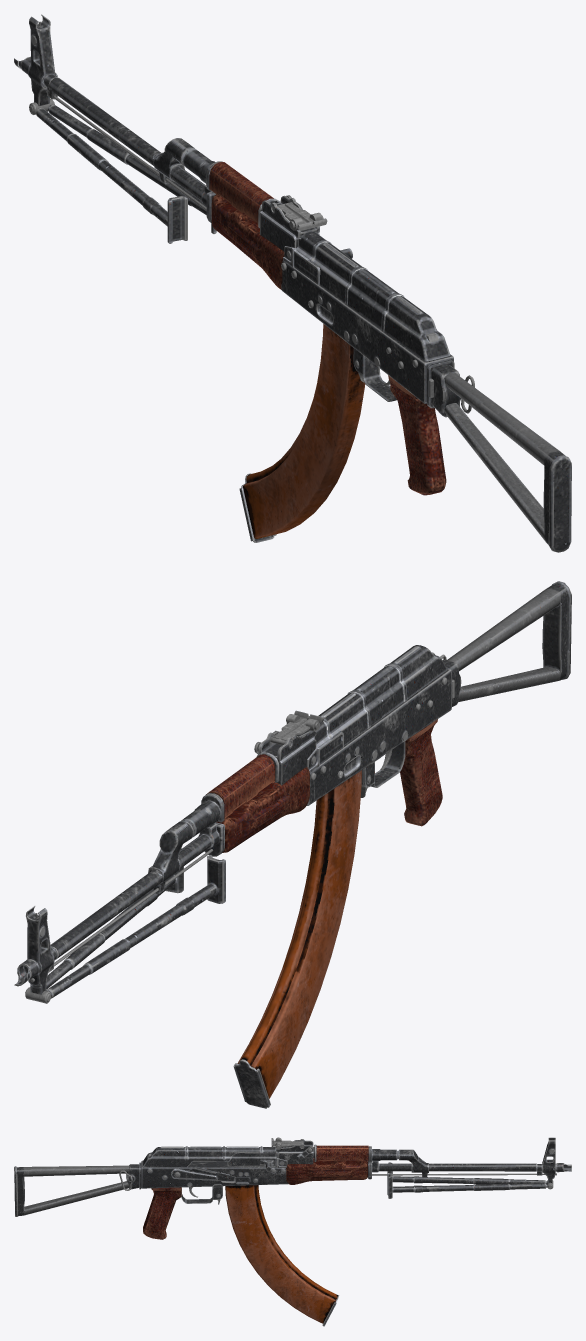
Rendered from rpk.glb.
The picture shows the model from 3 angles, top to bottom: view 1: azimuth 30°, elevation 25°; view 2: azimuth 150°, elevation 25°; view 3: azimuth 270°, elevation 25°; orthographic projection. The views are drawn at different scales.
Visible parts, largest first — view 1: Cube.033, Cube.008, Cube.039, Cube, Cube.012, Cylinder.009, Cube.001, Cube.003, Cylinder.001, Cube.002, Cylinder.010, Cube.005 (+3 smaller); view 2: Cube.033, Cube.039, Cube.008, Cube, Cube.012, Cylinder.009, Cube.003, Cube.001, Cylinder.010, Cube.002, Cube.005, Cube.034 (+3 smaller); view 3: Cube.033, Cube, Cube.039, Cube.012, Cube.008, Cylinder.009, Cube.003, Cube.001, Cube.002, Cylinder.010, Cube.011, Cube.005 (+4 smaller).
Part boxes in pixels (<box>): Cube.033: <box>243,324,365,538</box>; Cube.008: <box>296,231,450,361</box>; Cube.039: <box>444,372,565,544</box>; Cube: <box>281,260,453,403</box>; Cube.012: <box>36,105,216,243</box>; Cylinder.009: <box>28,14,212,206</box>; Cube.001: <box>388,375,446,495</box>; Cube.003: <box>211,194,284,289</box>; Cylinder.001: <box>548,455,571,552</box>; Cube.002: <box>209,162,273,224</box>; Cylinder.010: <box>153,138,215,184</box>; Cube.005: <box>260,195,319,251</box>; Cube.033: <box>237,770,361,1098</box>; Cube.039: <box>447,584,567,701</box>; Cube.008: <box>314,645,446,747</box>; Cube: <box>306,669,451,805</box>; Cube.012: <box>46,848,225,998</box>; Cylinder.009: <box>23,823,219,994</box>; Cube.003: <box>216,767,309,852</box>; Cube.001: <box>400,719,442,826</box>; Cylinder.010: <box>148,800,221,893</box>; Cube.002: <box>206,754,275,818</box>; Cube.005: <box>258,730,316,785</box>; Cube.034: <box>233,1059,270,1108</box>; Cube.033: <box>225,1185,337,1323</box>; Cube: <box>141,1160,288,1188</box>; Cube.039: <box>16,1165,129,1216</box>; Cube.012: <box>387,1162,547,1198</box>; Cube.008: <box>142,1146,277,1167</box>; Cylinder.009: <box>372,1137,556,1183</box>; Cube.003: <box>286,1158,367,1184</box>; Cube.001: <box>143,1187,181,1239</box>; Cube.002: <box>316,1145,368,1161</box>; Cylinder.010: <box>372,1149,428,1177</box>; Cube.011: <box>171,1166,235,1183</box>; Cube.005: <box>276,1139,313,1164</box>.
Bounding box in the file's own units: 0.3701 × 1.98 × 5.41.
Materials: 1 (1 with a texture image).
